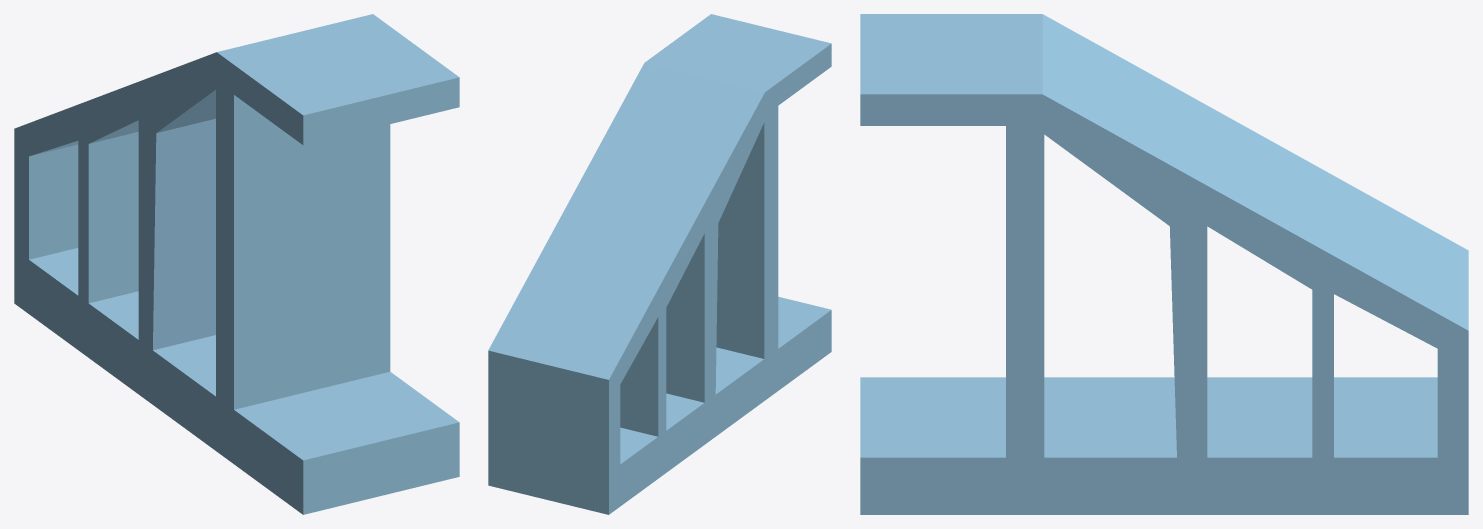
Rendered from Shelf.dae.
3 renders of one model, left to right at view 1: azimuth 30°, elevation 25°; view 2: azimuth 150°, elevation 25°; view 3: azimuth 270°, elevation 25°, orthographic. The views are drawn at different scales.
Parts seen in each view (by area): view 1: ID2; view 2: ID2; view 3: ID2.
Boxes of the visible parts, x1=… form: ID2: x1=14, y1=14, x2=459, y2=514; ID2: x1=488, y1=14, x2=831, y2=514; ID2: x1=860, y1=14, x2=1468, y2=514.
Bounding box in the file's own units: 0.0254 × 0.0813 × 0.062.
